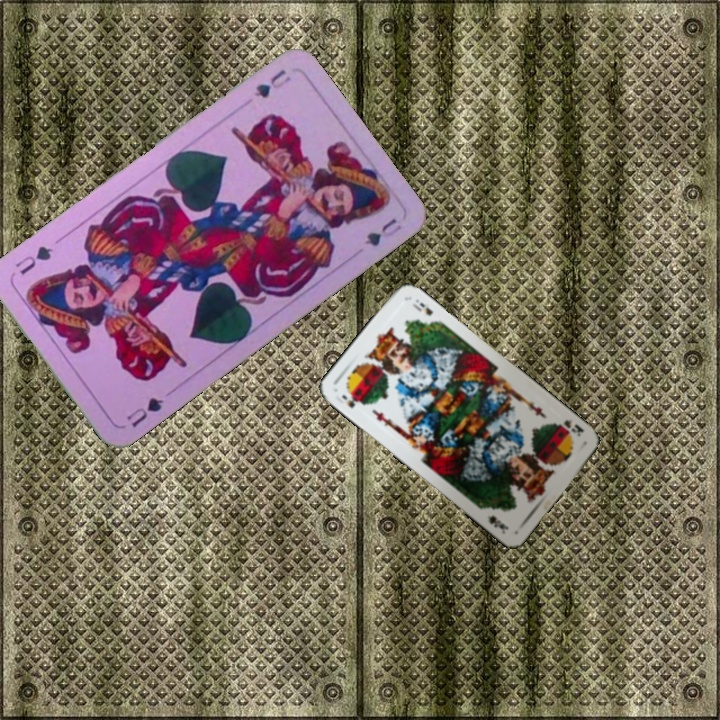GU: (122, 393, 167, 430), (249, 65, 294, 101)
SK: (550, 415, 587, 439), (338, 391, 360, 411)
